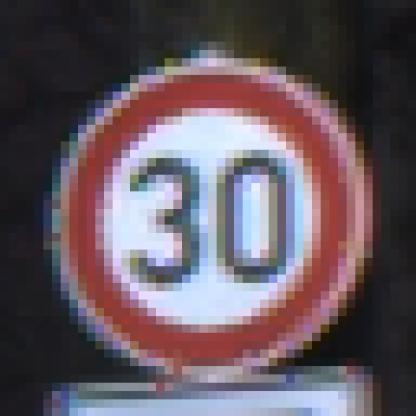Speed Limit 30: (58, 68, 361, 373)
